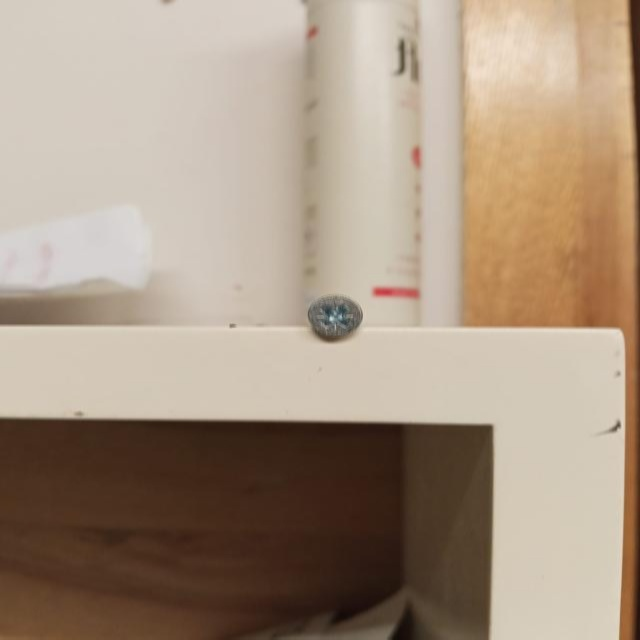pozidriv: (308, 295, 363, 338)
